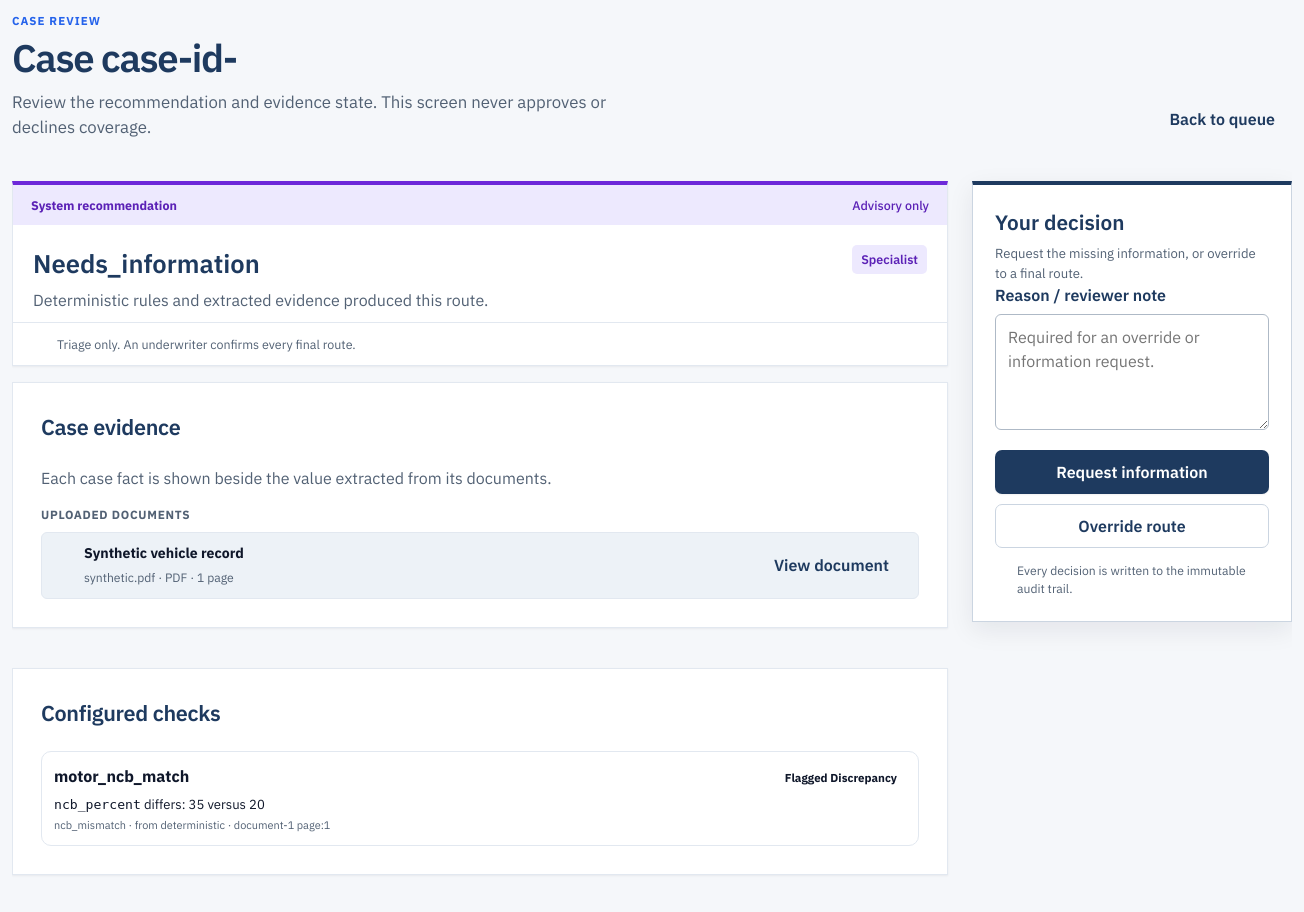
needs-information recommendation › hides final routes until the underwriter starts an override
The width and height of the screenshot is (1304, 912).
Expected: the heading "Your decision" is shown, [995,209,1124,236]
Expected: the button "Request information" is shown, [995,450,1269,494]
Click the button "Override route" at point(1132, 526), box [995,504,1269,548]
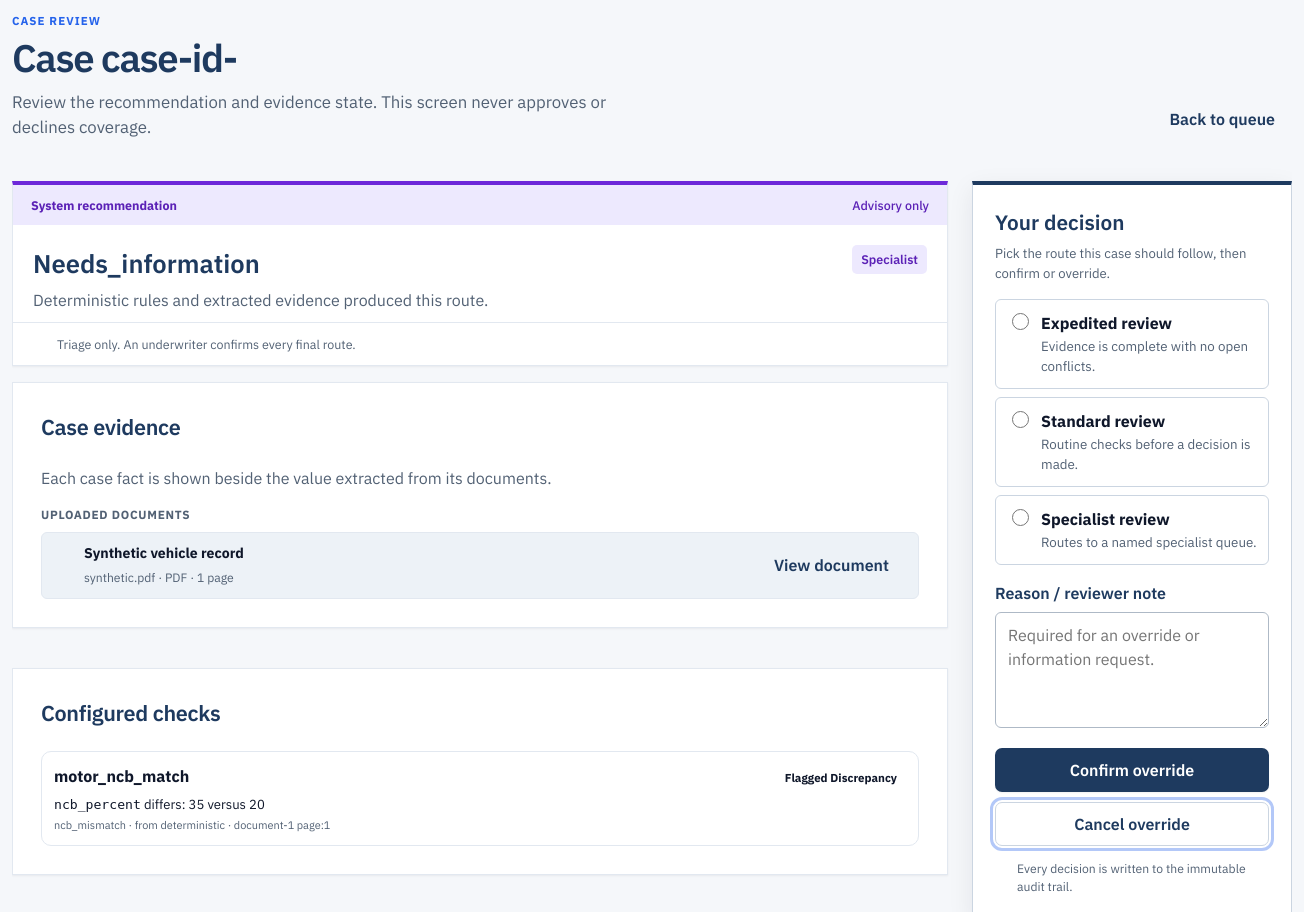
Now the radio button labelled "Expedited review" is shown, box [1012,313,1029,330]
